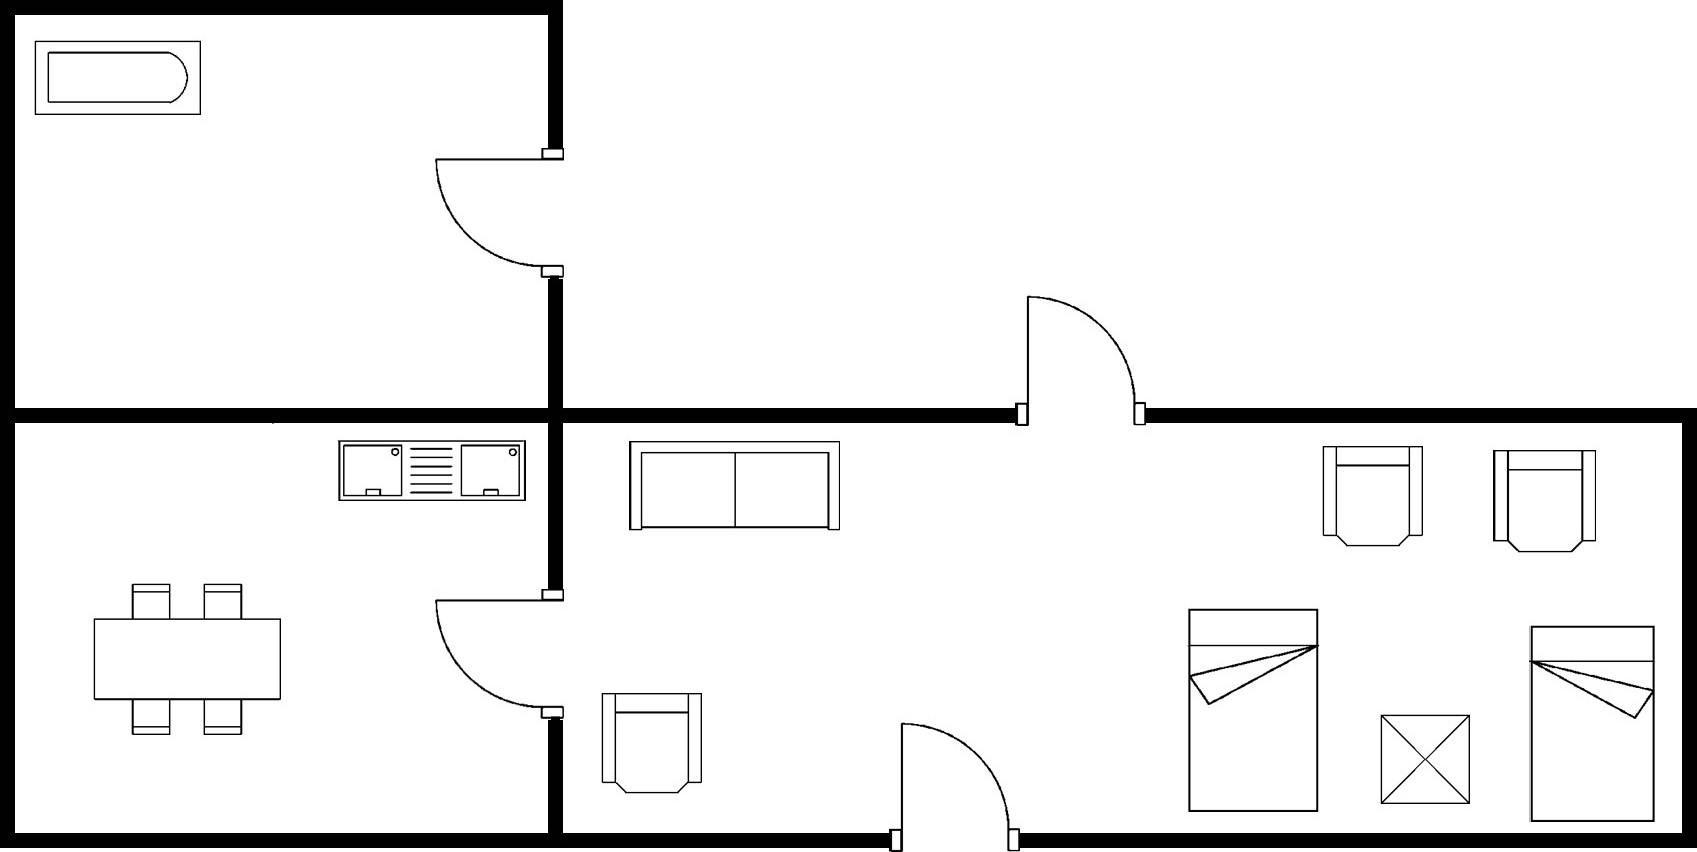sink: (332, 433, 529, 508)
